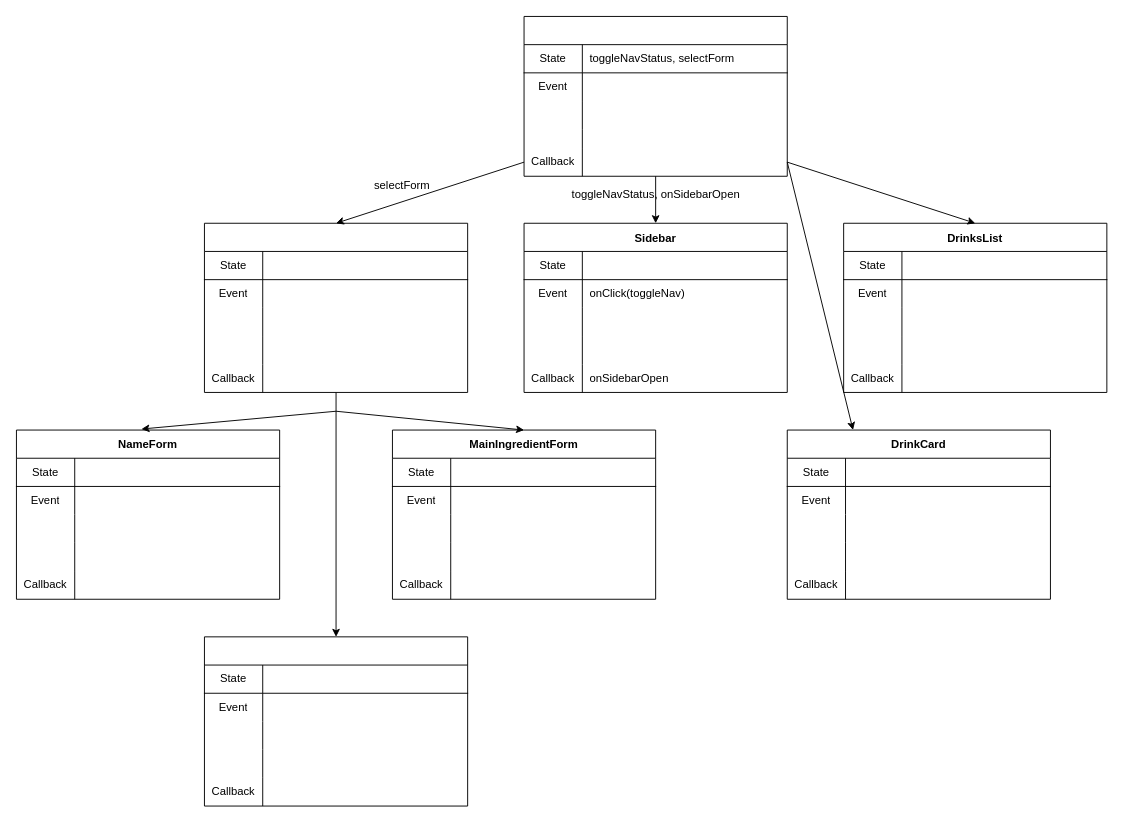
This 1123x823 diagram has some shape labels left out. The shapes that lost their labels are listed below. From the top down, each one's box as (x1, y1, x2, y2) in pixels, then its label:
(523, 16, 787, 176): App
(204, 222, 468, 392): Header
(204, 636, 468, 806): FirstLetterForm
